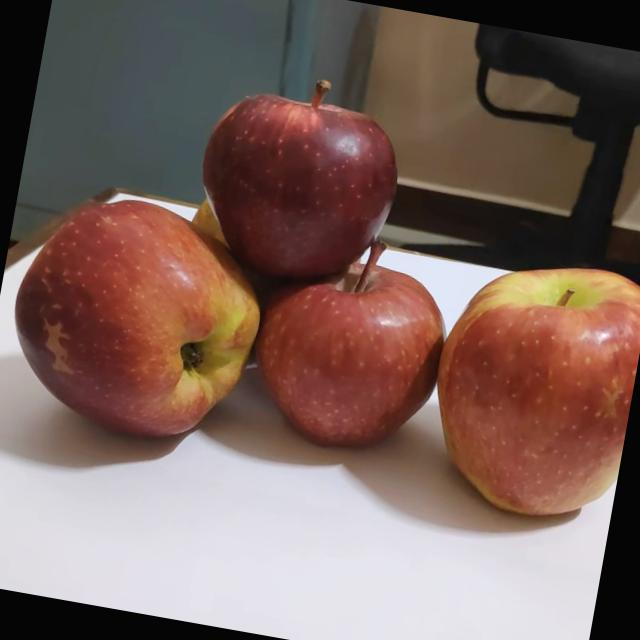apple: (0, 174, 274, 457), (404, 232, 640, 530), (223, 211, 459, 466), (172, 38, 412, 287), (164, 175, 242, 258)
